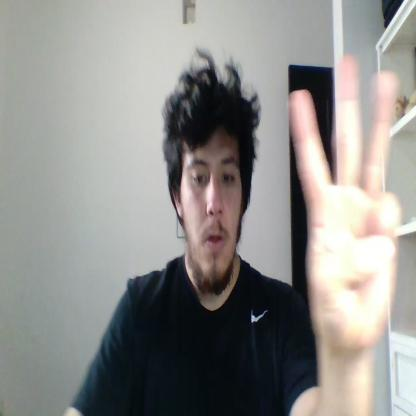W: (289, 53, 399, 352)
